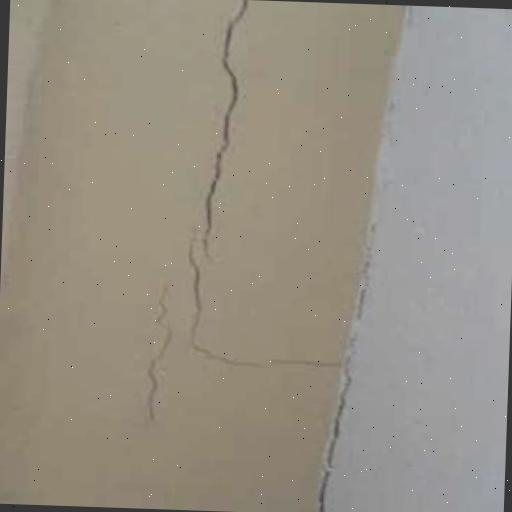spalling: (182, 1, 332, 374), (137, 275, 175, 420)
